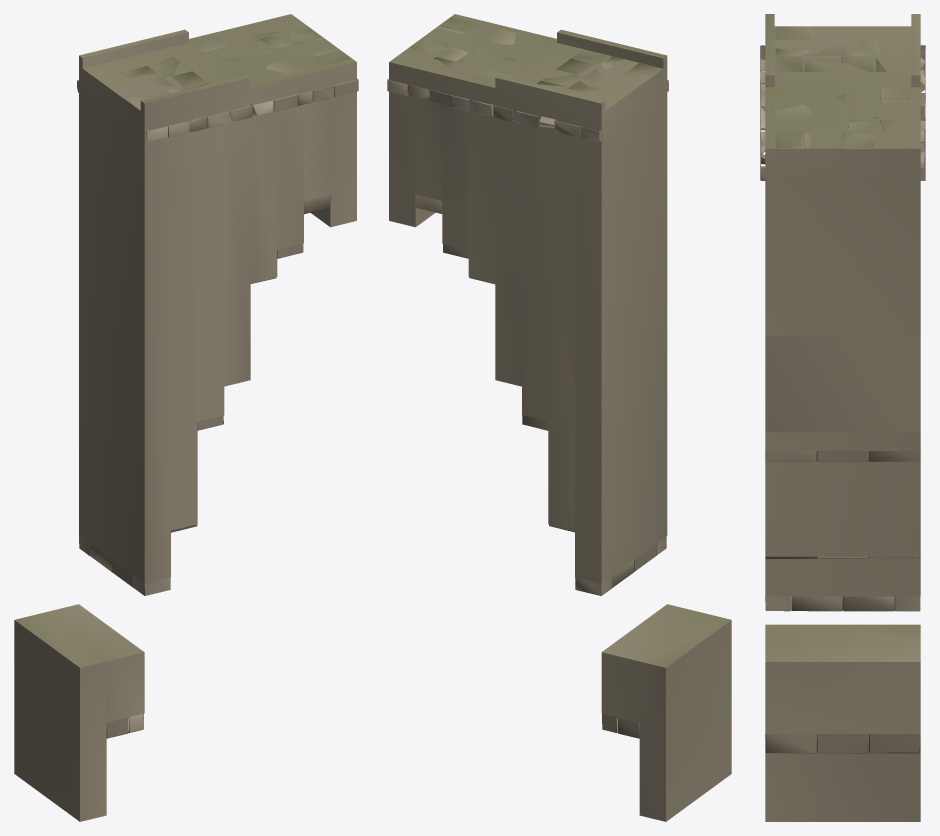
The model's file is bridge_abut_e.glb.
3 views of the same model, side by side, from view 1: azimuth 30°, elevation 25°; view 2: azimuth 150°, elevation 25°; view 3: azimuth 270°, elevation 25° (orthographic). The views are drawn at different scales.
Parts seen in each view (by area): view 1: bridge_abut_e_far, bridge_abut_e; view 2: bridge_abut_e_far, bridge_abut_e; view 3: bridge_abut_e_far, bridge_abut_e.
Part boxes in pixels (x1=…): bridge_abut_e_far: x1=14, y1=14, x2=356, y2=821; bridge_abut_e: x1=77, y1=28, x2=358, y2=738; bridge_abut_e_far: x1=389, y1=14, x2=731, y2=821; bridge_abut_e: x1=387, y1=17, x2=668, y2=738; bridge_abut_e_far: x1=765, y1=14, x2=920, y2=821; bridge_abut_e: x1=760, y1=26, x2=925, y2=753.
Size of the model in its own units: 36.5 by 88.5 by 15.99.
